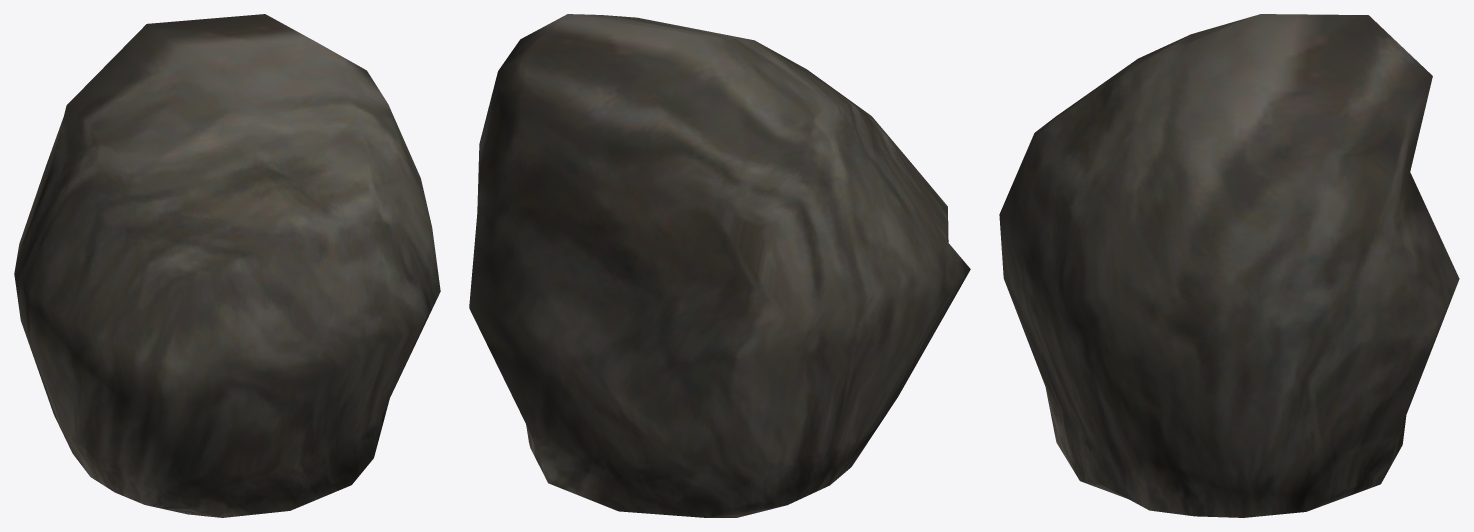
File: Stone2Shape.dae
3 views of the same model, side by side, from view 1: azimuth 30°, elevation 25°; view 2: azimuth 150°, elevation 25°; view 3: azimuth 270°, elevation 25° (orthographic). The views are drawn at different scales.
Parts seen in each view (by area): view 1: Stone2; view 2: Stone2; view 3: Stone2.
Part boxes in pixels (x1,y1,x2,y2): Stone2: [14, 14, 440, 517]; Stone2: [469, 14, 970, 517]; Stone2: [999, 14, 1459, 517].
Size of the model in its own units: 8.48 by 8.67 by 8.1.
